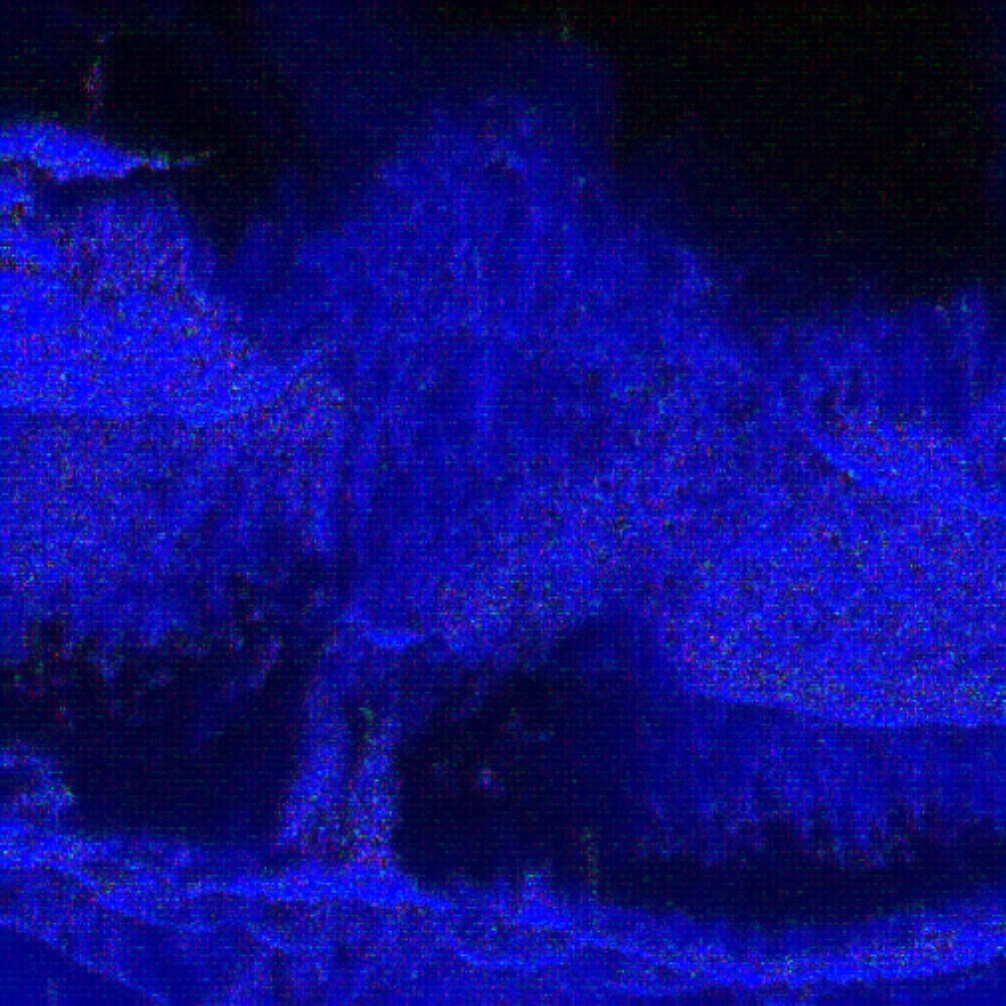rip_current: (259, 75, 726, 895)
